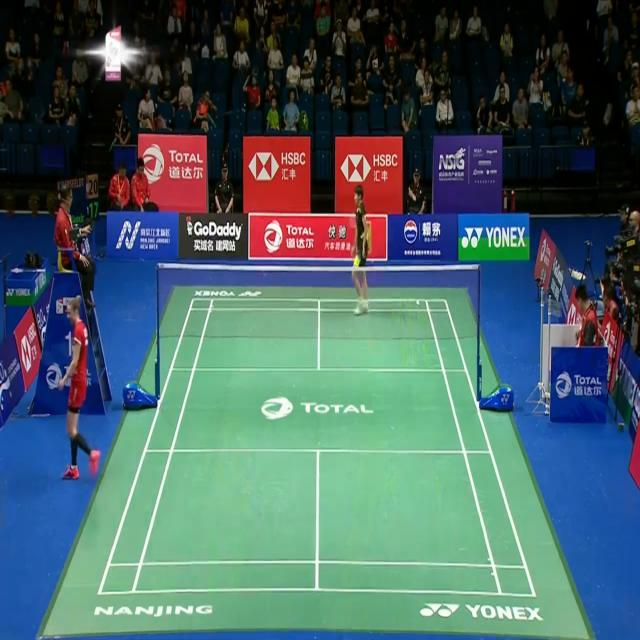Player1: (54, 289, 106, 492)
Player2: (343, 178, 377, 322)
